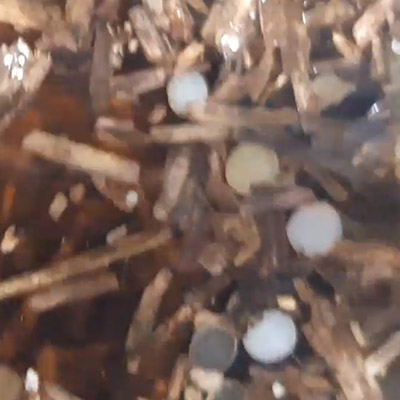nurdle: (280, 203, 348, 260), (220, 140, 283, 195), (237, 312, 301, 363), (188, 325, 244, 377), (158, 71, 211, 118)
